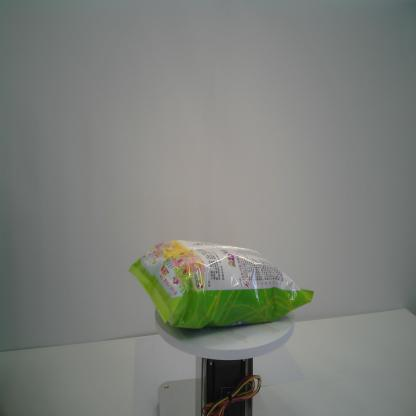Puffed Food: (129, 238, 314, 331)
